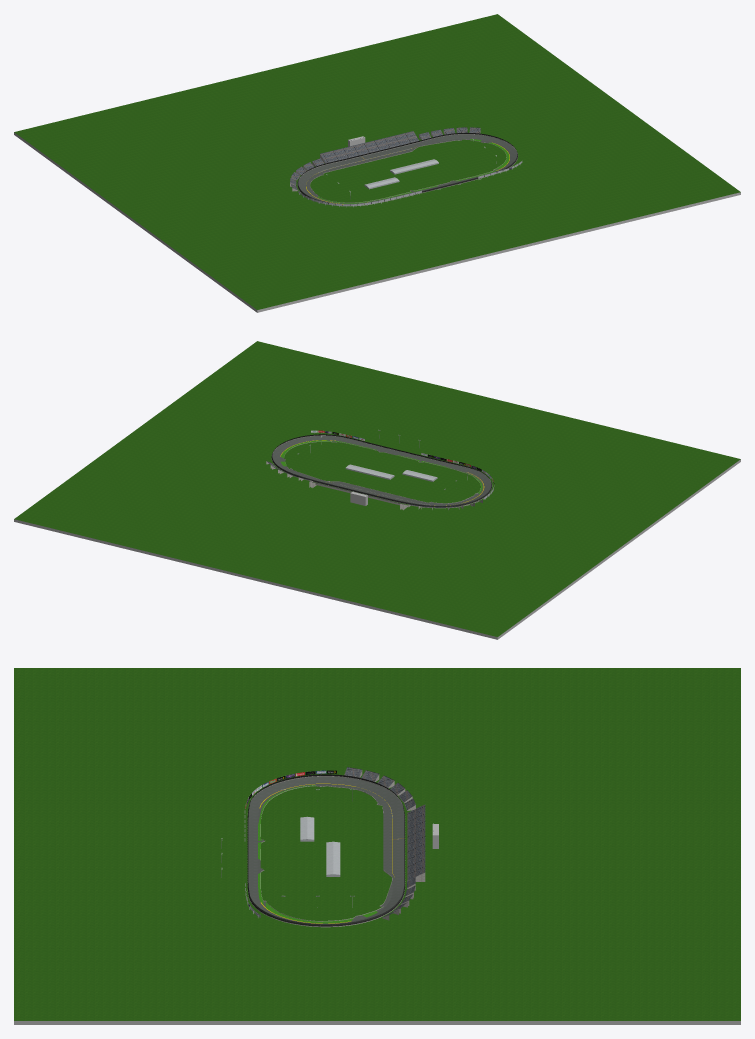
3 views of the same model, one above another, from view 1: azimuth 30°, elevation 25°; view 2: azimuth 150°, elevation 25°; view 3: azimuth 270°, elevation 25° (orthographic). The views are drawn at different scales.
Parts seen in each view (by area): view 1: milwake-SKP--grass, milwake-SKP--Default_Material, milwake-GRP-mil_grandstands_x_0-119358-stands, milwake-GRP-Mil_track_surface_a_x_0-119250-road, milwake-GRP-mil_track_corner_x_0-119262-road, milwake-GRP-mil_wire_fence_x_0-119226-fence, milwake-GRP-garage_inside_x_0-559314-Steel_Brushed_Stainless; view 2: milwake-SKP--grass, milwake-SKP--Default_Material, milwake-GRP-Mil_track_surface_a_x_0-119250-road, milwake-GRP-mil_wire_fence_x_0-119226-fence, milwake-GRP-mil_track_corner_x_0-119262-road, milwake-GRP-mil_wall_x_0-119238-wall, milwake-GRP-garage_inside_x_0-559314-Steel_Brushed_Stainless; view 3: milwake-SKP--grass, milwake-SKP--Default_Material, milwake-GRP-Mil_track_surface_a_x_0-119250-road, milwake-GRP-mil_grandstands_x_0-119358-stands, milwake-GRP-mil_track_corner_x_0-119262-road, milwake-GRP-mil_wire_fence_x_0-119226-fence, milwake-GRP-garage_inside_x_0-559314-Steel_Brushed_Stainless, milwake-GRP-mil_track_basic_x_0-119274-road, milwake-GRP-mil_grass_x_0-119310-grasstrack, milwake-GRP-mil_pit_road_x_0-119286-road.
Part boxes in pixels (bbox=[...]): milwake-SKP--grass: bbox=[14, 14, 740, 309]; milwake-SKP--Default_Material: bbox=[14, 132, 740, 312]; milwake-GRP-mil_grandstands_x_0-119358-stands: bbox=[290, 127, 480, 190]; milwake-GRP-Mil_track_surface_a_x_0-119250-road: bbox=[307, 134, 492, 201]; milwake-GRP-mil_track_corner_x_0-119262-road: bbox=[298, 134, 517, 203]; milwake-GRP-mil_wire_fence_x_0-119226-fence: bbox=[297, 132, 517, 205]; milwake-GRP-garage_inside_x_0-559314-Steel_Brushed_Stainless: bbox=[364, 159, 438, 189]; milwake-SKP--grass: bbox=[14, 341, 740, 636]; milwake-SKP--Default_Material: bbox=[14, 459, 740, 639]; milwake-GRP-Mil_track_surface_a_x_0-119250-road: bbox=[282, 438, 477, 505]; milwake-GRP-mil_wire_fence_x_0-119226-fence: bbox=[271, 434, 491, 507]; milwake-GRP-mil_track_corner_x_0-119262-road: bbox=[272, 436, 491, 505]; milwake-GRP-mil_wall_x_0-119238-wall: bbox=[273, 435, 490, 504]; milwake-GRP-garage_inside_x_0-559314-Steel_Brushed_Stainless: bbox=[345, 464, 437, 481]; milwake-SKP--grass: bbox=[14, 668, 740, 1020]; milwake-SKP--Default_Material: bbox=[14, 1021, 740, 1024]; milwake-GRP-Mil_track_surface_a_x_0-119250-road: bbox=[248, 795, 404, 910]; milwake-GRP-mil_grandstands_x_0-119358-stands: bbox=[344, 767, 425, 917]; milwake-GRP-mil_track_corner_x_0-119262-road: bbox=[251, 776, 394, 924]; milwake-GRP-mil_wire_fence_x_0-119226-fence: bbox=[247, 774, 404, 926]; milwake-GRP-garage_inside_x_0-559314-Steel_Brushed_Stainless: bbox=[300, 816, 340, 876]; milwake-GRP-mil_track_basic_x_0-119274-road: bbox=[251, 774, 403, 926]; milwake-GRP-mil_grass_x_0-119310-grasstrack: bbox=[258, 785, 377, 923]; milwake-GRP-mil_pit_road_x_0-119286-road: bbox=[382, 805, 392, 872].
Bounding box in the file's own units: 326876 × 8285 × 284709.
11 materials, 10 textured.
